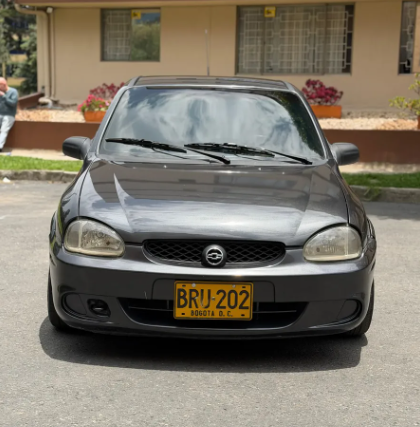placa: (174, 281, 254, 322)
